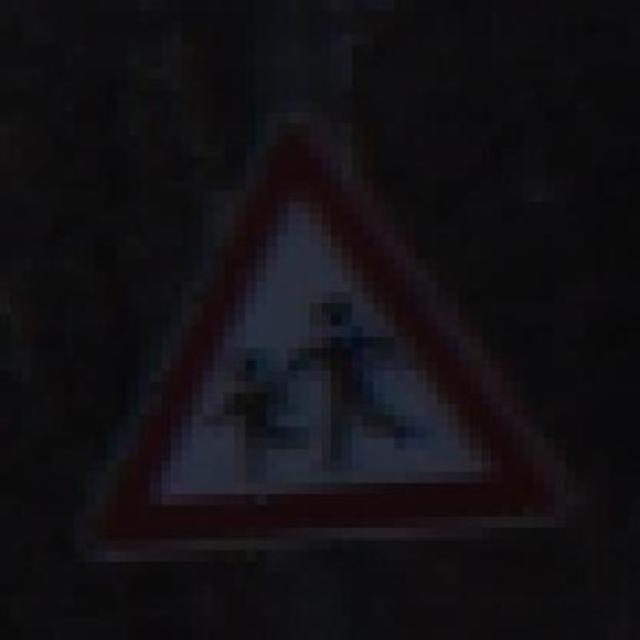Beware of children: (86, 101, 554, 562)
